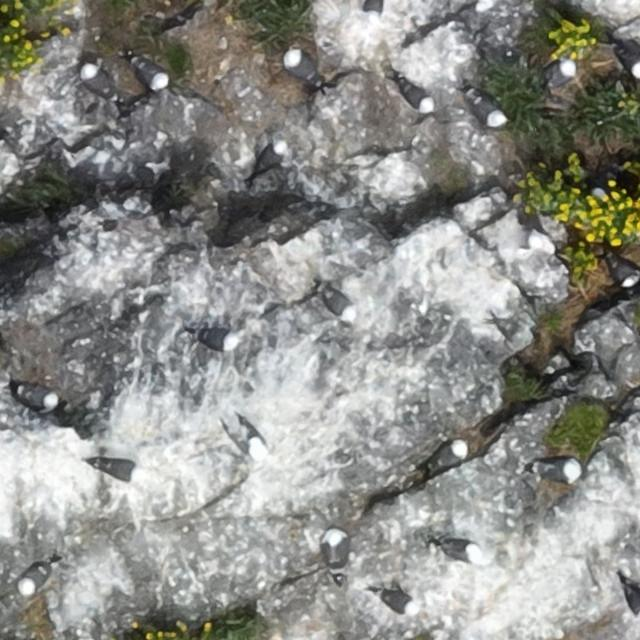umineko: (248, 140, 291, 190), (229, 415, 270, 461), (322, 528, 346, 578), (525, 223, 559, 256), (285, 51, 317, 82), (134, 59, 166, 88), (472, 95, 504, 124), (97, 460, 141, 481), (82, 68, 112, 98), (323, 289, 352, 319), (399, 83, 431, 110), (18, 566, 47, 594), (436, 540, 478, 559), (380, 590, 416, 612), (436, 441, 466, 466), (18, 388, 55, 408), (197, 329, 234, 349), (610, 260, 638, 286), (549, 59, 574, 86), (618, 46, 640, 76), (542, 460, 576, 479), (626, 586, 640, 617), (365, 0, 381, 18)
